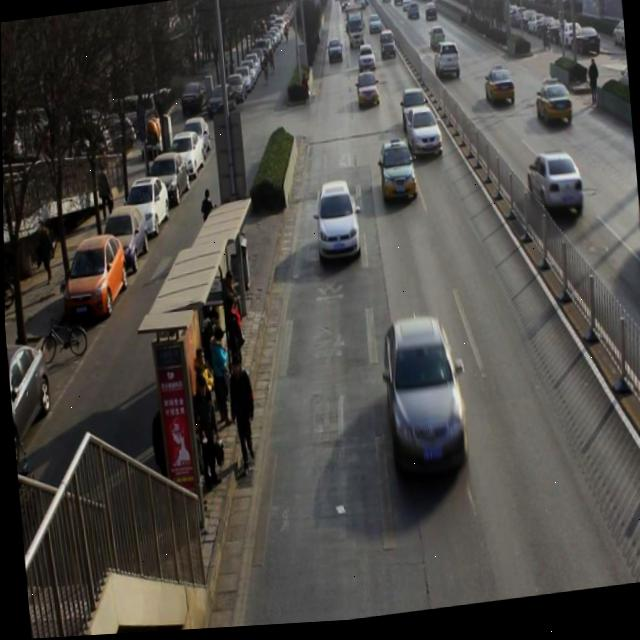car: (379, 314, 471, 493), (521, 151, 585, 225), (313, 182, 361, 263), (376, 142, 417, 205), (402, 109, 443, 162), (534, 83, 575, 136), (483, 71, 516, 116), (432, 48, 462, 86), (353, 76, 382, 114), (398, 93, 429, 124), (355, 46, 378, 79), (325, 39, 344, 69), (378, 34, 396, 63), (427, 31, 446, 55)
